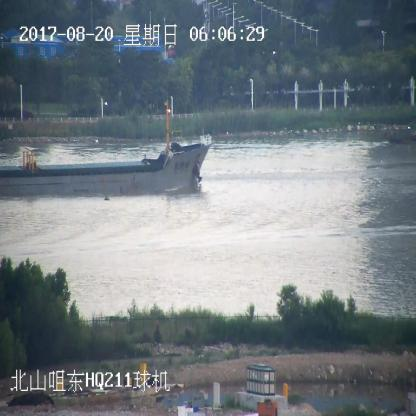Bulk Carrier: (0, 103, 212, 194)
